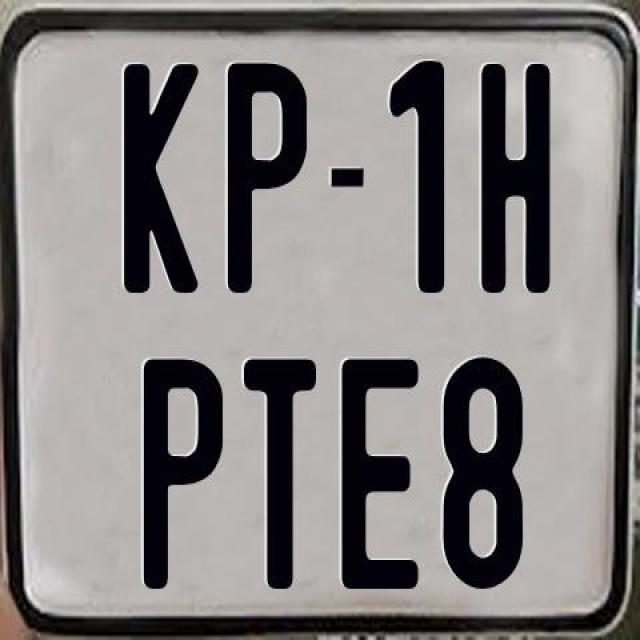1: (387, 58, 445, 294)
8: (438, 353, 522, 588)
E: (340, 358, 426, 598)
H: (480, 61, 556, 300)
K: (121, 62, 196, 292)
P: (142, 356, 222, 594), (225, 61, 304, 301)
T: (242, 355, 318, 592)
